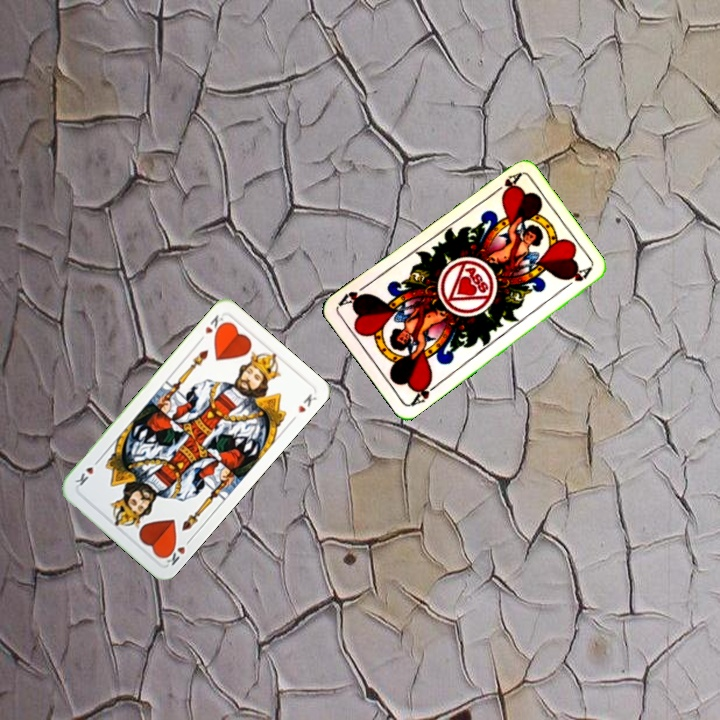HA: (407, 376, 442, 409), (487, 169, 523, 199)
HK: (158, 534, 194, 568), (195, 310, 226, 345)
